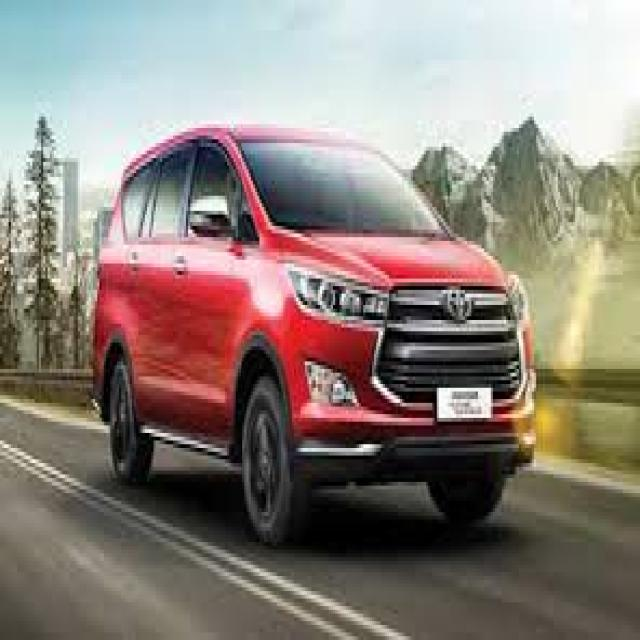cars: (70, 104, 556, 553)
